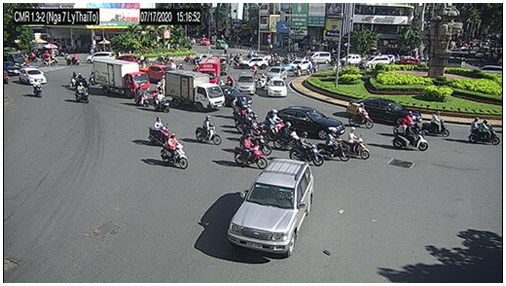xe_hoi: (229, 160, 312, 256), (272, 106, 344, 140), (354, 96, 421, 125), (19, 67, 48, 85), (267, 77, 287, 97), (236, 75, 256, 94), (239, 57, 269, 69), (87, 51, 114, 63), (362, 55, 388, 67), (290, 58, 312, 71), (116, 55, 139, 67), (263, 67, 287, 78), (340, 53, 360, 66), (215, 38, 228, 51)
xe_khach: (306, 51, 331, 63)
xe_may: (234, 134, 268, 170), (290, 132, 323, 166), (317, 129, 350, 162), (394, 121, 429, 152), (161, 132, 188, 169), (468, 116, 500, 147), (273, 122, 305, 151), (344, 126, 370, 160), (241, 128, 271, 157), (260, 109, 290, 138), (194, 115, 221, 146), (421, 111, 450, 139), (398, 111, 426, 137), (348, 101, 373, 130), (148, 117, 170, 146), (235, 105, 257, 131), (234, 96, 254, 120), (152, 88, 170, 114), (134, 85, 150, 108), (75, 82, 88, 105), (86, 69, 97, 87), (32, 79, 42, 97), (77, 72, 87, 88), (70, 71, 78, 87), (293, 63, 302, 77), (251, 63, 259, 77), (71, 54, 79, 66), (306, 61, 312, 76), (225, 74, 233, 85), (313, 61, 318, 74)
xe_tai: (165, 69, 225, 112), (93, 57, 150, 98)
